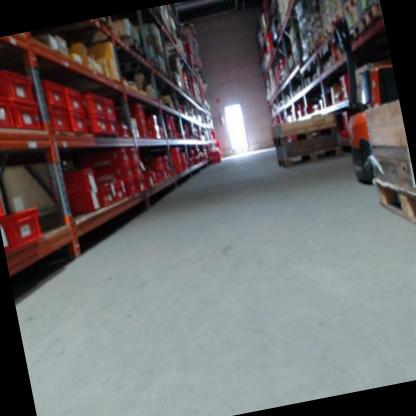pallet: (371, 174, 416, 240), (276, 144, 345, 171), (270, 124, 339, 147), (358, 2, 384, 32), (347, 19, 365, 43), (342, 0, 358, 18), (319, 23, 332, 41), (307, 46, 316, 59)
pallet_truck: (317, 6, 413, 191)
small_load_carrier: (73, 159, 135, 191), (6, 198, 44, 249), (0, 64, 39, 110), (50, 163, 97, 197), (7, 98, 45, 139), (78, 144, 133, 172), (35, 75, 69, 115), (56, 78, 87, 119), (57, 189, 102, 217), (48, 105, 73, 140), (65, 110, 90, 141), (82, 88, 106, 119), (0, 218, 17, 259), (0, 86, 15, 130), (86, 115, 109, 143), (97, 182, 118, 211), (99, 93, 119, 120), (107, 180, 127, 201), (105, 118, 123, 138), (338, 71, 356, 90), (0, 180, 8, 219), (116, 118, 134, 134), (123, 179, 139, 195), (130, 164, 146, 180), (127, 147, 140, 165), (135, 179, 147, 193), (341, 88, 351, 101)
